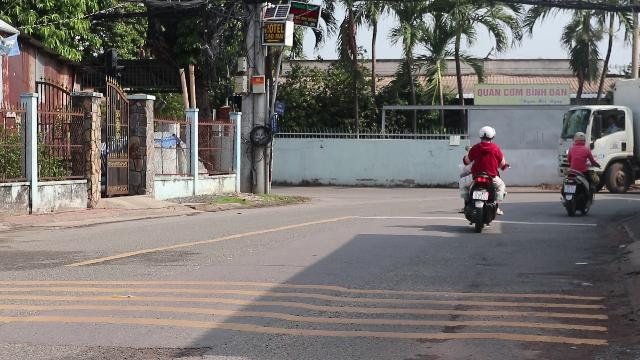helmet: (477, 125, 495, 141)
licenseplate: (473, 190, 487, 199)
motorcyclist: (458, 126, 507, 231)
